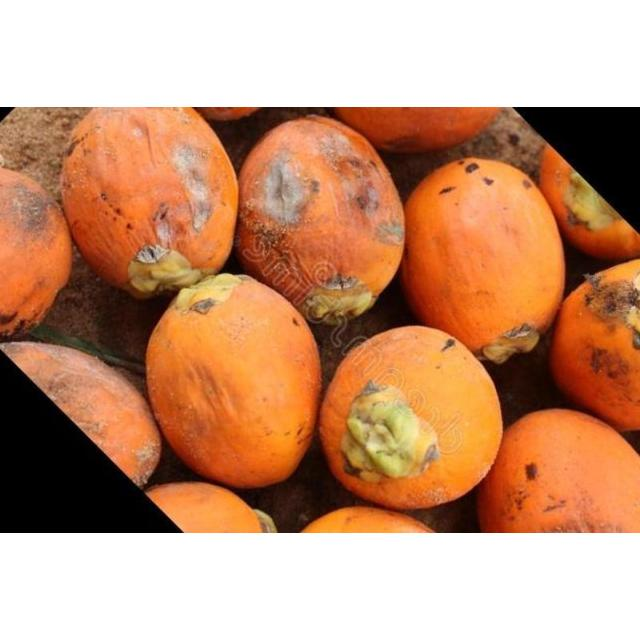good: (144, 275, 326, 491), (404, 158, 570, 358), (324, 324, 502, 506), (478, 408, 640, 534), (556, 263, 640, 423)
